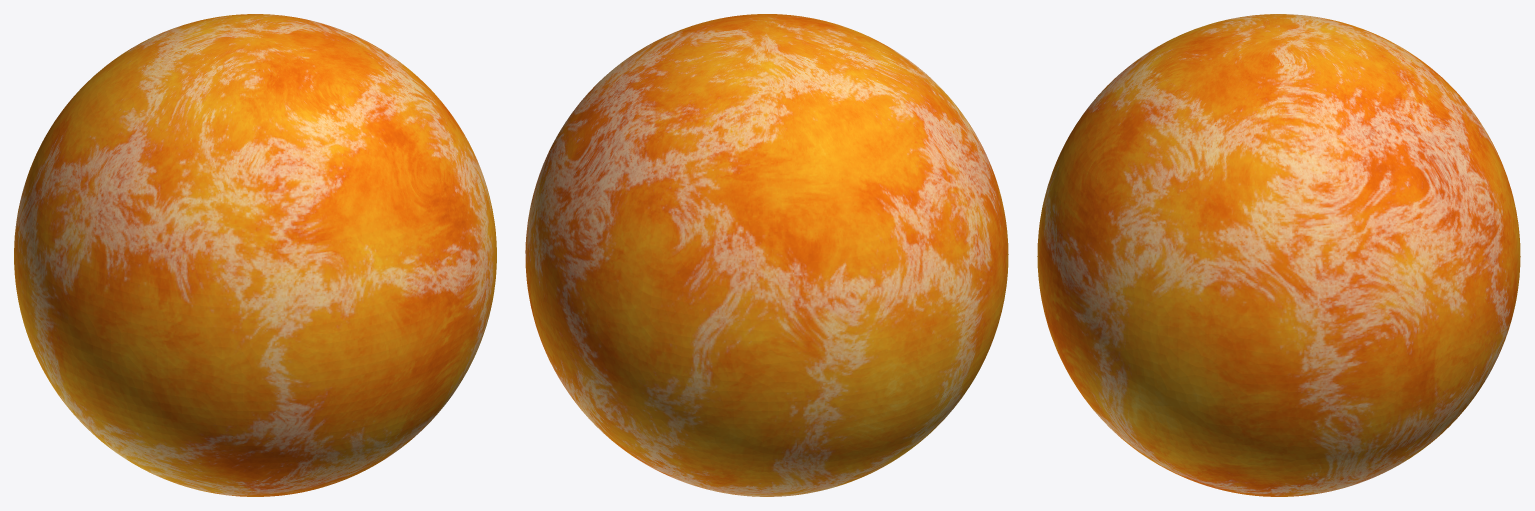
The model's file is helios-ii.obj.
3 views of the same model, side by side, from view 1: azimuth 30°, elevation 25°; view 2: azimuth 150°, elevation 25°; view 3: azimuth 270°, elevation 25° (orthographic).
Bounding box in the file's own units: 4 × 4 × 4.
Materials: 1 (1 with a texture image).
